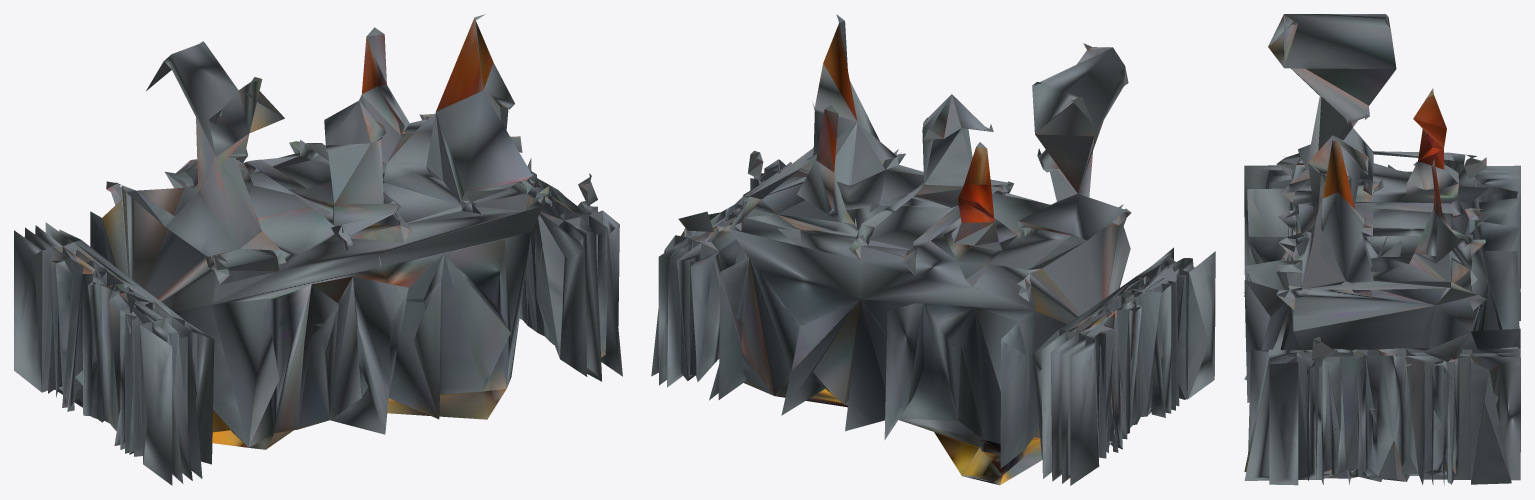
The model's file is fv_transformer.lod1.glb.
The picture shows the model from 3 angles, left to right: view 1: azimuth 30°, elevation 25°; view 2: azimuth 150°, elevation 25°; view 3: azimuth 270°, elevation 25°; orthographic projection. The views are drawn at different scales.
Parts seen in each view (by area): view 1: fv_transformer; view 2: fv_transformer; view 3: fv_transformer.
Boxes of the visible parts, <box> form: fv_transformer: <box>14,14,622,485</box>; fv_transformer: <box>651,14,1215,485</box>; fv_transformer: <box>1244,14,1520,485</box>.
Bounding box in the file's own units: 2.63 × 2.11 × 1.52.
1 material, 1 textured.
